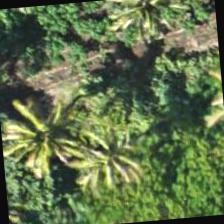Kelapa_Sawit: (58, 104, 156, 202), (0, 85, 91, 183)
